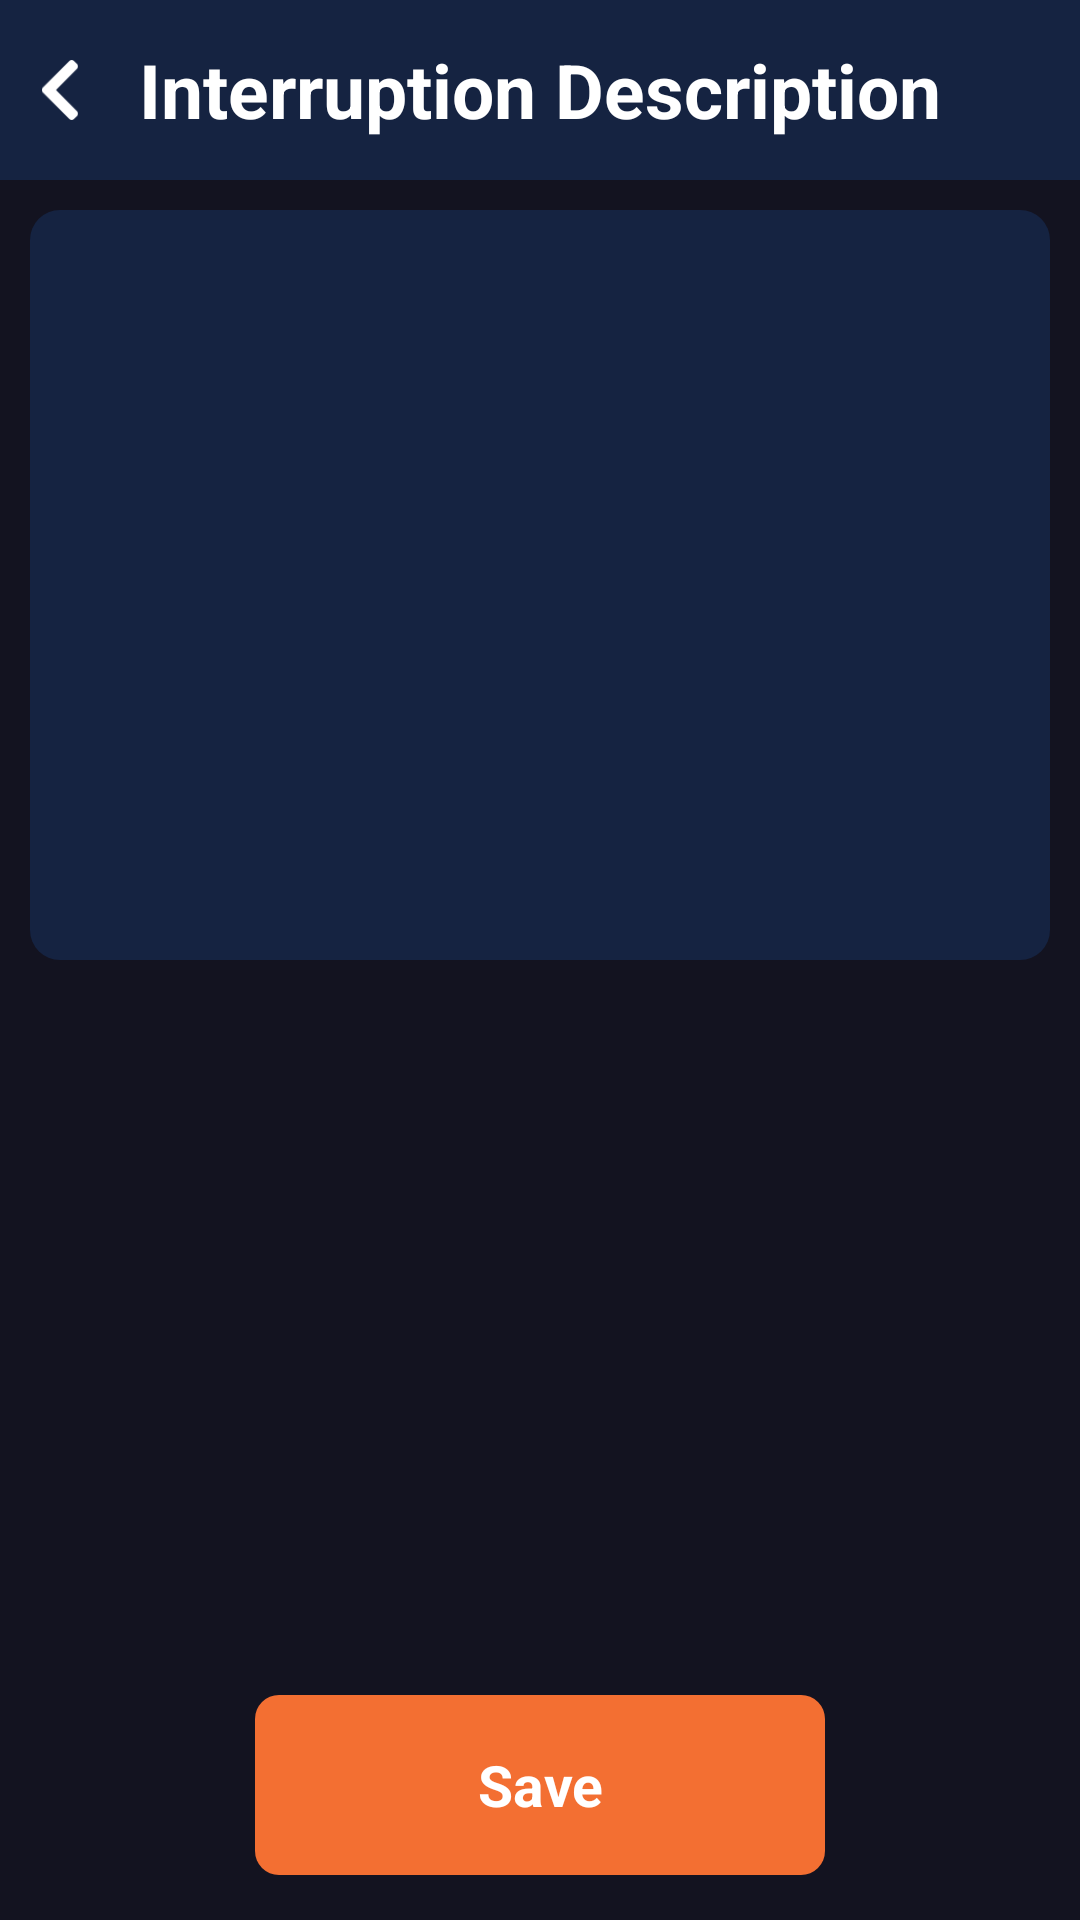

Icon bounding boxes for this 1080 × 1920 phone screenshot, format (x1, y1, x2, y2):
back: (42, 60, 78, 120)
